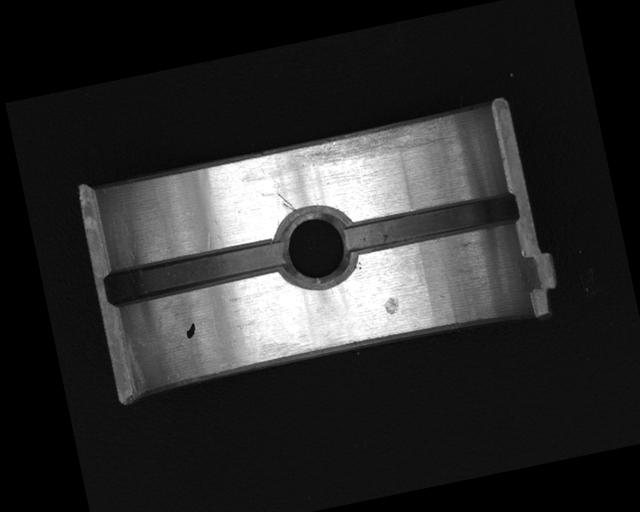blot: (182, 322, 198, 340)
bruise: (381, 295, 402, 316)
gap: (101, 234, 291, 309), (343, 189, 522, 258)
hole: (273, 199, 361, 294)
nick: (277, 188, 297, 215)
scratch: (293, 111, 455, 175)
